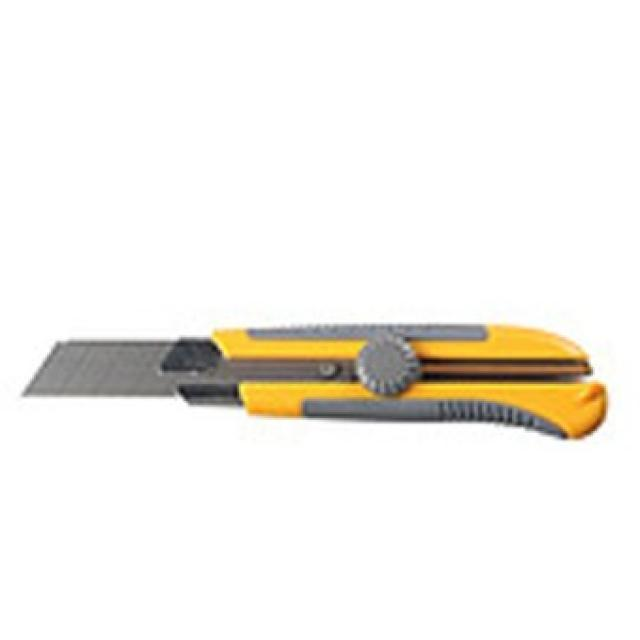cutter: (13, 309, 614, 457)
